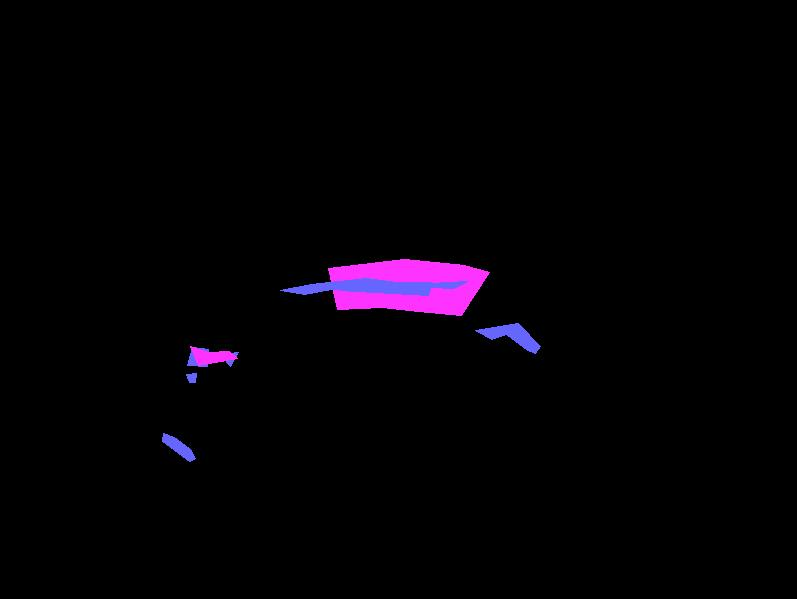Dent: (328, 259, 489, 315), (190, 346, 237, 365)
Scratch: (280, 278, 467, 294), (475, 323, 540, 353), (339, 282, 432, 295), (162, 433, 195, 461), (187, 347, 208, 366), (226, 352, 238, 366), (186, 373, 196, 382)
